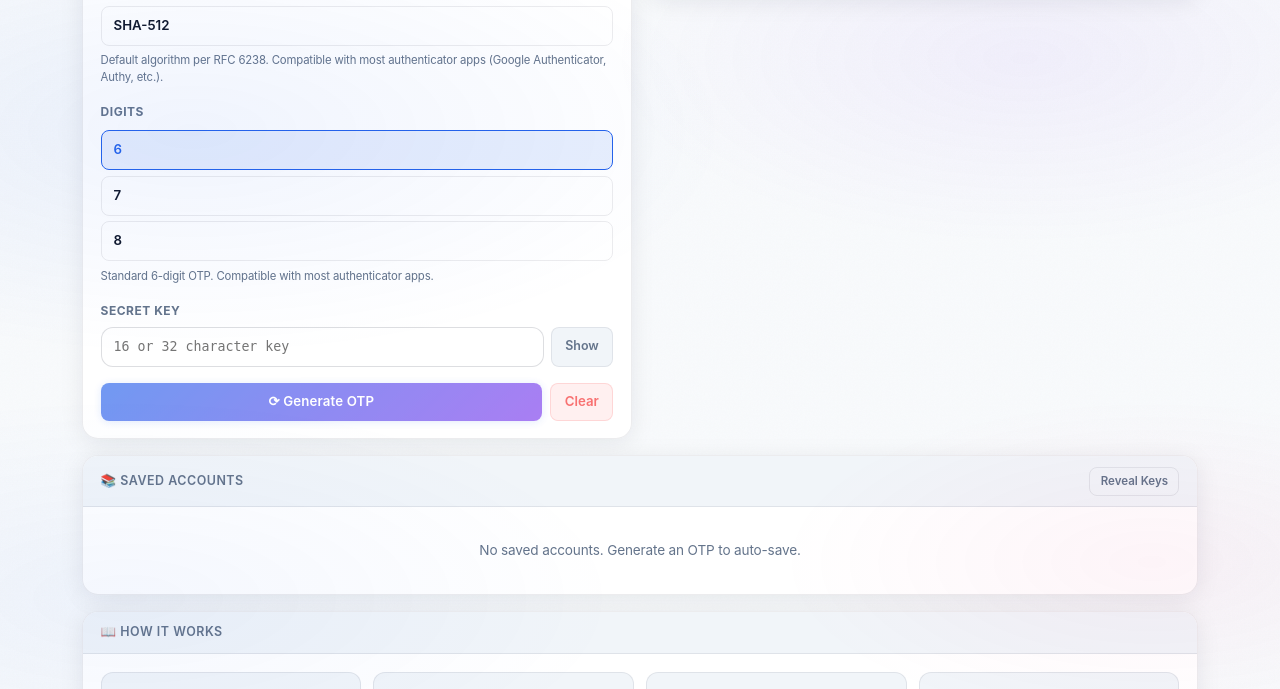
Scenario: OtpGenerator Component › show/hide secret key toggle works
(page scrolled)
Click the button "Show".
click(582, 347)  # box 551,327 -> 613,367
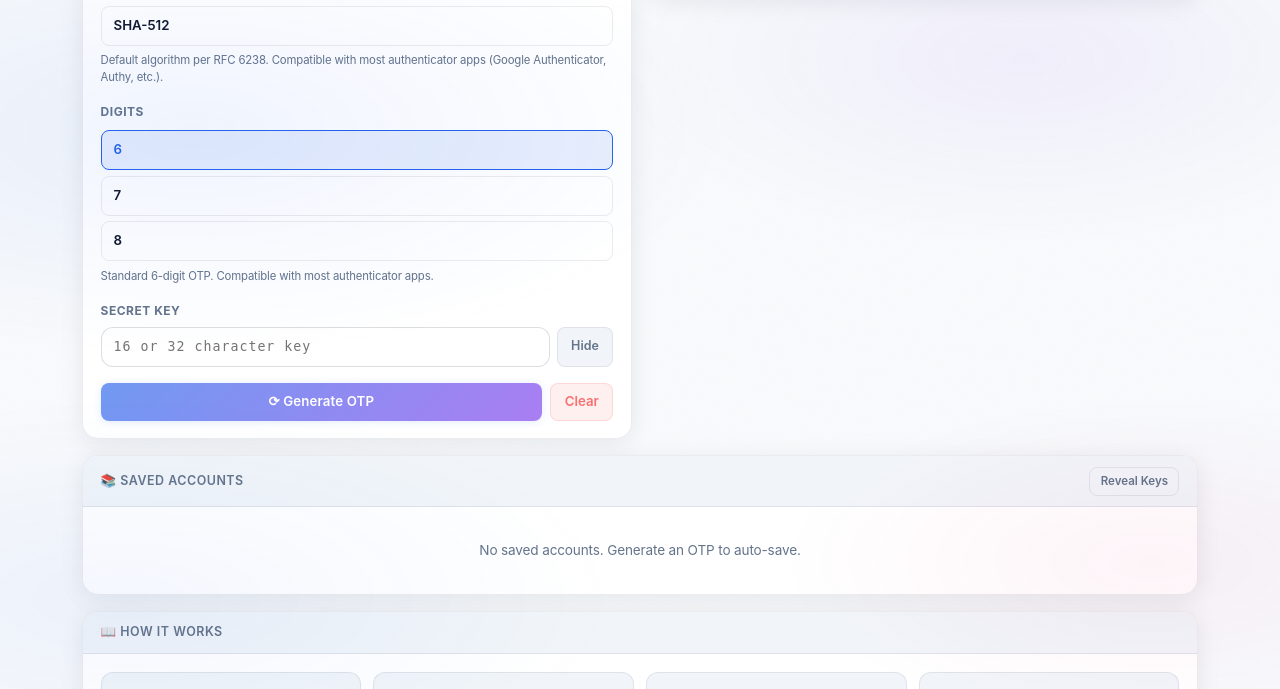
Result: the button "Hide" is shown at 556,327 -> 613,367
